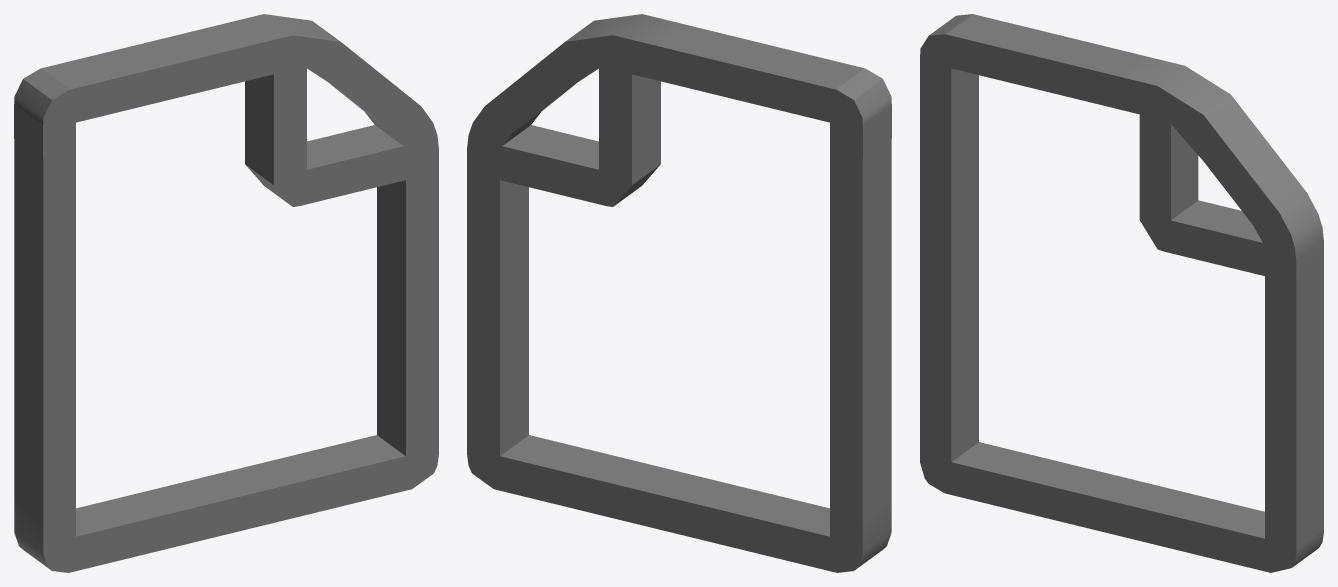
The model's file is fa-save.obj.
3 renders of one model, left to right at view 1: azimuth 30°, elevation 25°; view 2: azimuth 150°, elevation 25°; view 3: azimuth 330°, elevation 25°, orthographic. The views are drawn at different scales.
Size of the model in its own units: 0.9072 by 1.06 by 0.1152.
1 material, 1 textured.
